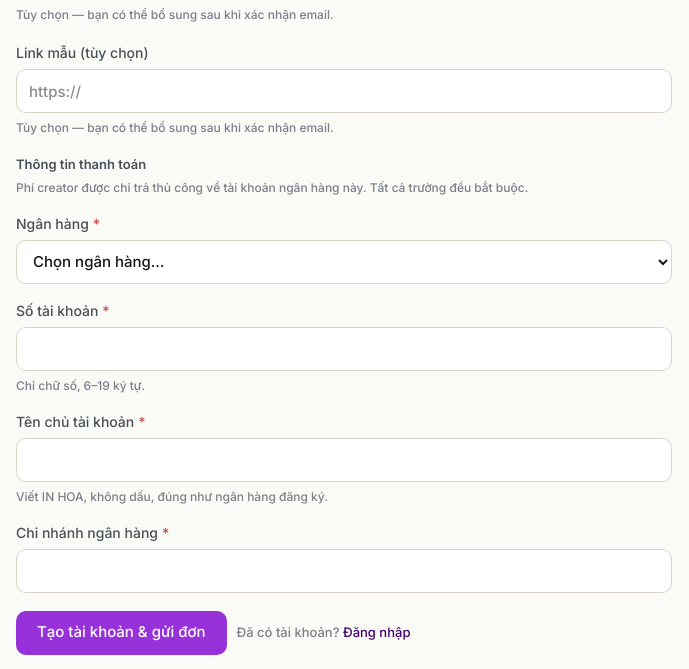
Test case: BecomeCreatorPage › anon combined form - individual tier › shows error when name is empty on submit
(page scrolled)
What coordinates should you click on to do the following:
click the button with test id "anon-submit"
I would click on:
 (121, 632)
Its box is [16,610,226,654].
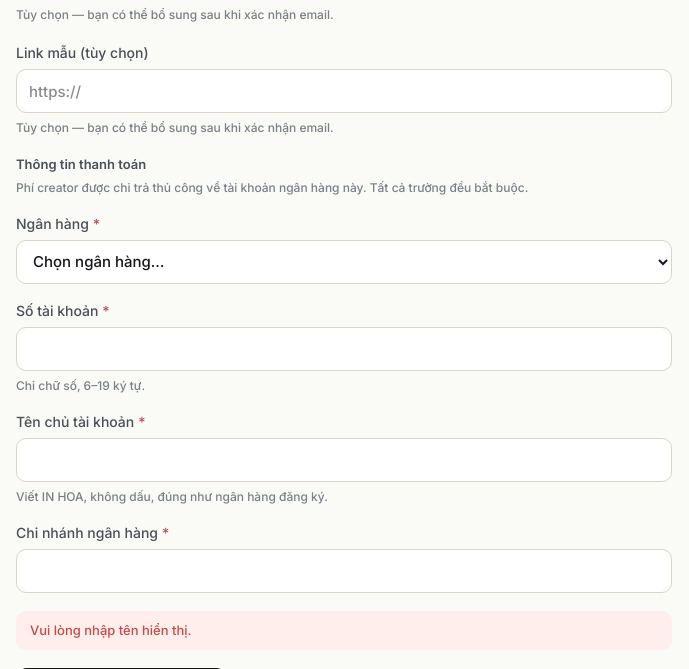
Result: the message "Vui lòng nhập tên hiển thị." is shown at [16,610,672,650]
